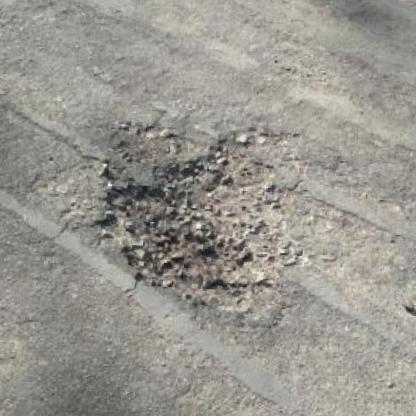pothole: (95, 121, 302, 315)
